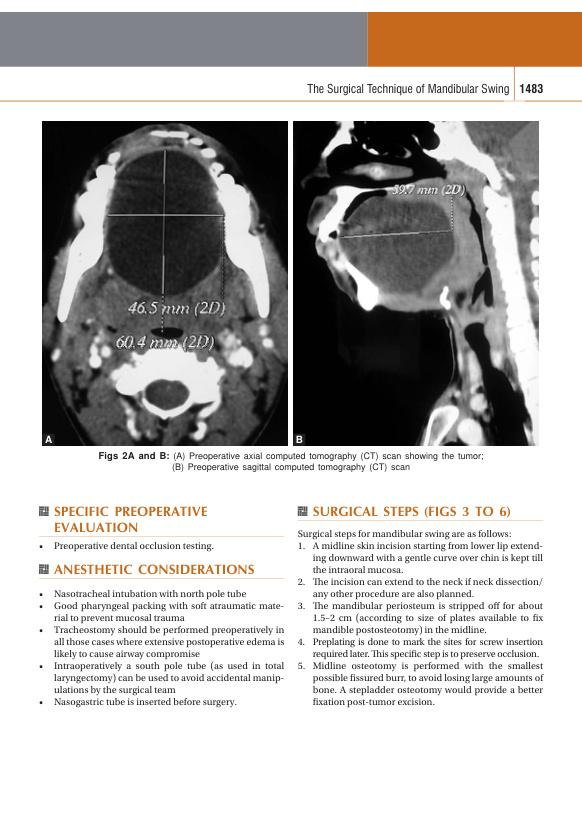caption: (97, 450, 484, 474), (44, 434, 53, 444), (295, 434, 304, 444)
header: (306, 82, 510, 97)
image: (292, 119, 540, 447), (41, 120, 289, 447)
list: (297, 541, 545, 710), (37, 589, 286, 710), (37, 540, 215, 553)
section-heading: (51, 504, 209, 535), (311, 504, 512, 519), (52, 563, 256, 576)
text: (297, 528, 512, 540)
